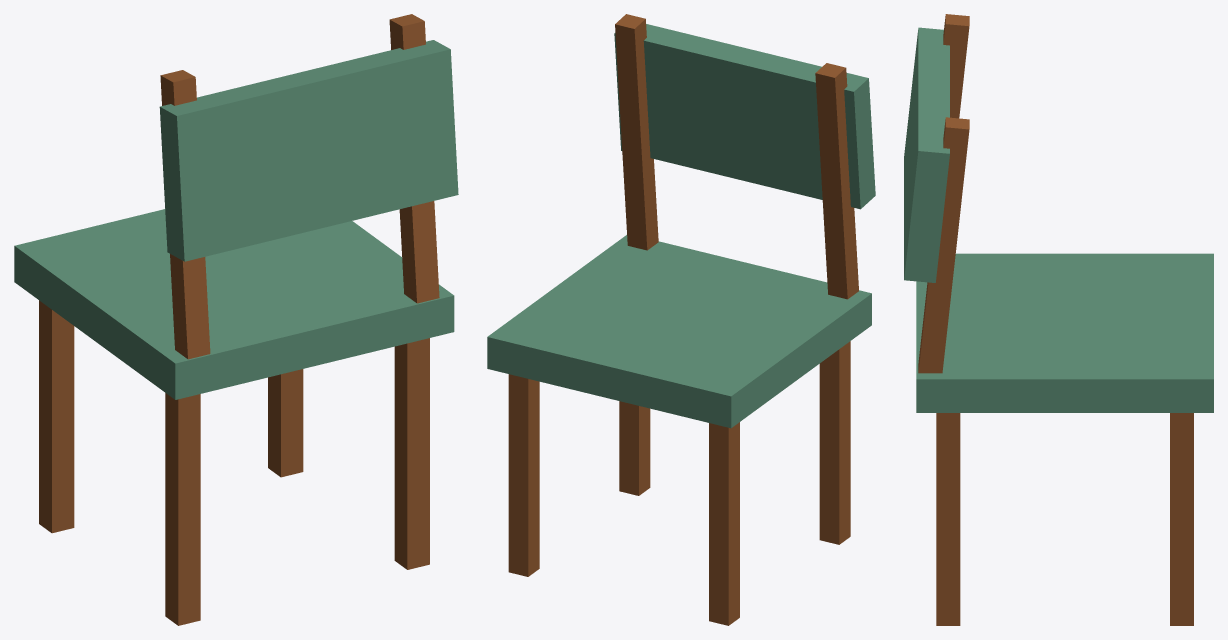
File: studio-chair.obj
The picture shows the model from 3 angles, left to right: view 1: azimuth 30°, elevation 25°; view 2: azimuth 150°, elevation 25°; view 3: azimuth 270°, elevation 25°; orthographic projection. The views are drawn at different scales.
Bounding box in the file's own units: 0.56 × 1.04 × 0.5833.
